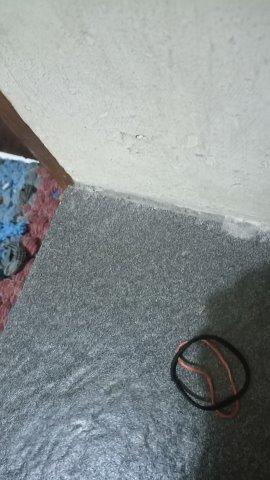karet: (170, 335, 251, 419)
